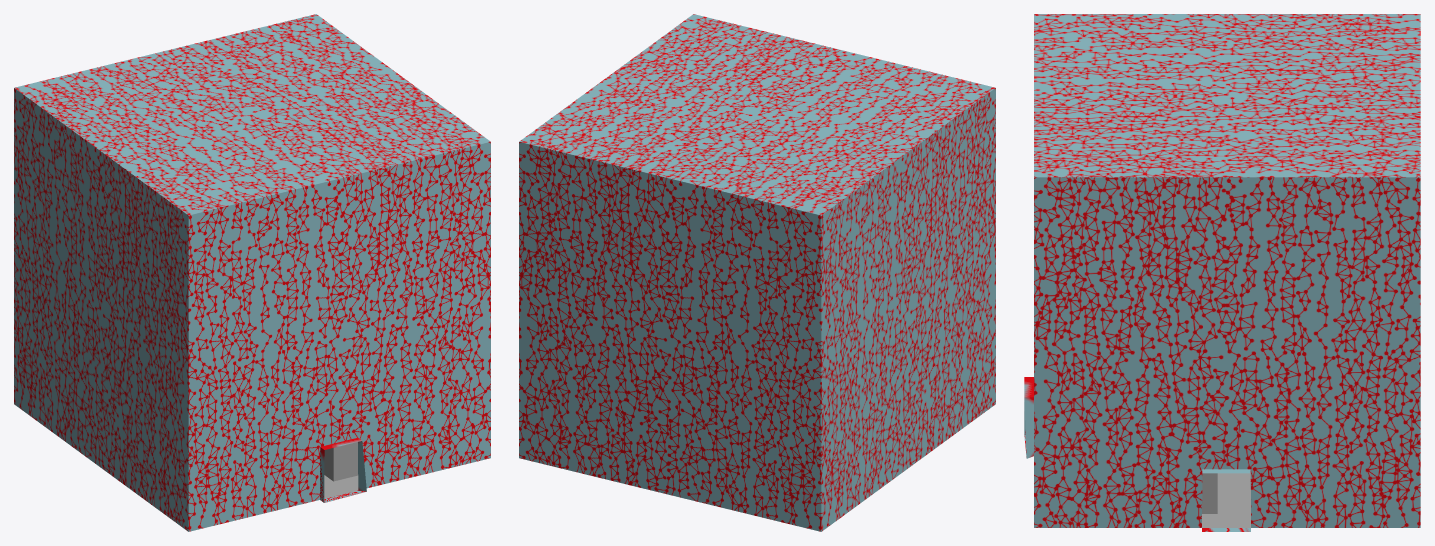
Rendered from Orb_Rm_Coll.fbx.
3 renders of one model, left to right at view 1: azimuth 30°, elevation 25°; view 2: azimuth 150°, elevation 25°; view 3: azimuth 270°, elevation 25°, orthographic. The views are drawn at different scales.
Parts seen in each view (by area): view 1: P_Orb_Rm_Coll; view 2: P_Orb_Rm_Coll; view 3: P_Orb_Rm_Coll.
Boxes of the visible parts, <box> form: P_Orb_Rm_Coll: <box>14,14,490,531</box>; P_Orb_Rm_Coll: <box>519,14,995,531</box>; P_Orb_Rm_Coll: <box>1024,14,1420,531</box>.
Size of the model in its own units: 28.51 by 27.81 by 28.51.
